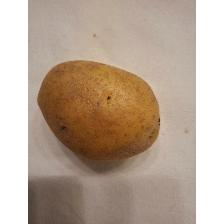Kartoffel: (36, 55, 164, 164)
